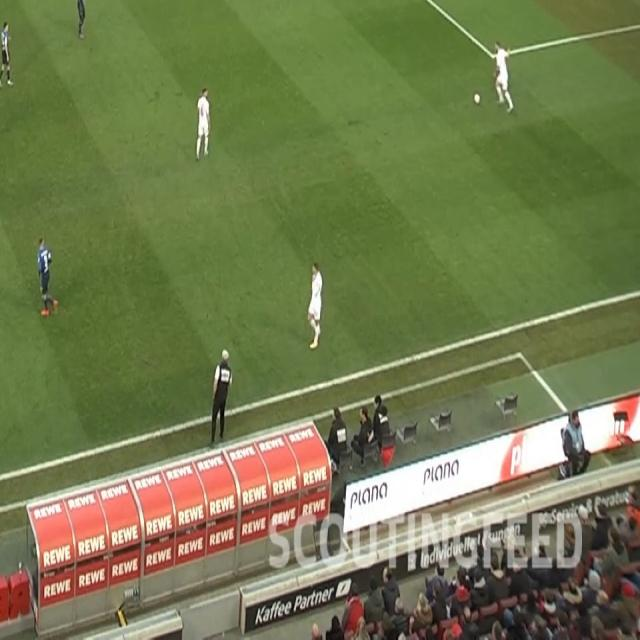ball: (473, 92, 481, 105)
